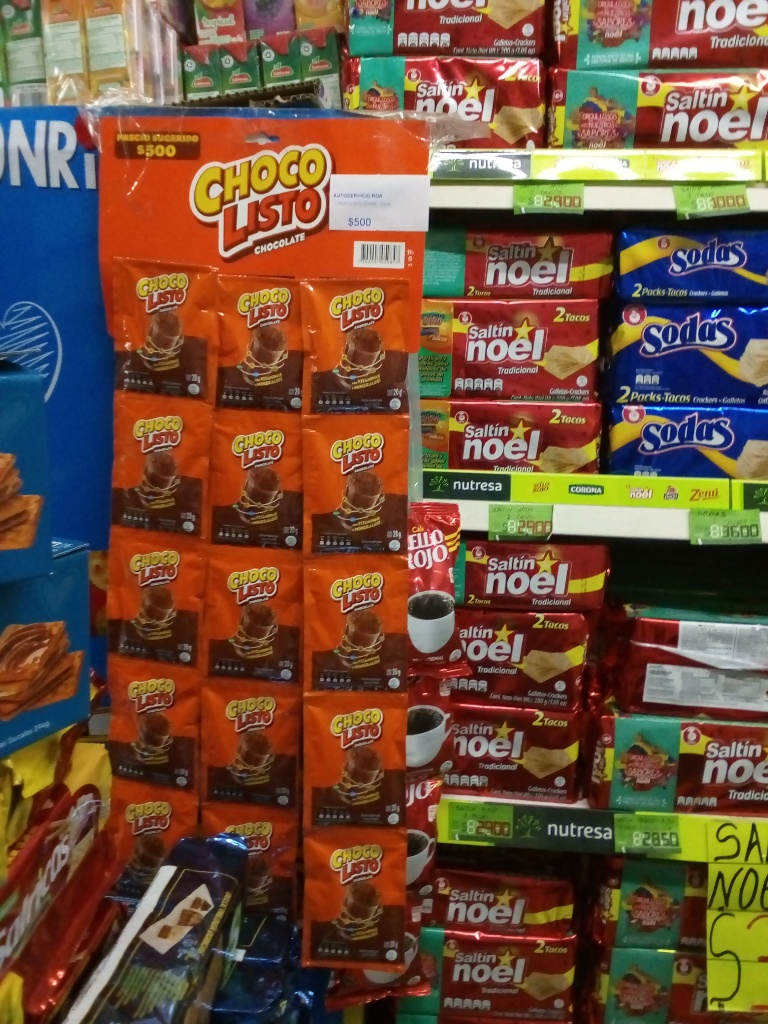COL0170103SOB02000: (108, 256, 213, 400)
